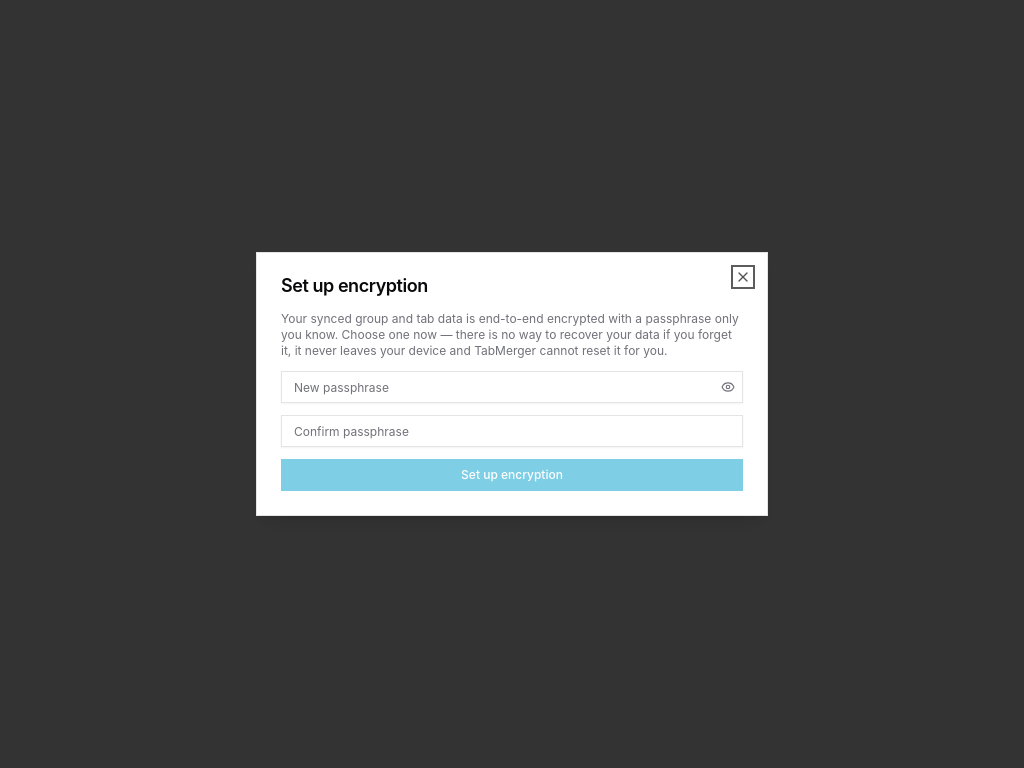
Test: EncryptionSetupModal — self-detects setup vs unlock mode › switches to the unlock form when the server refuses a second key (set up elsewhere meanwhile)
Step 1. Type "passphrase-1" into the password field with placeholder "New passphrase" → coordinates (512, 387), box [281,371,743,403]
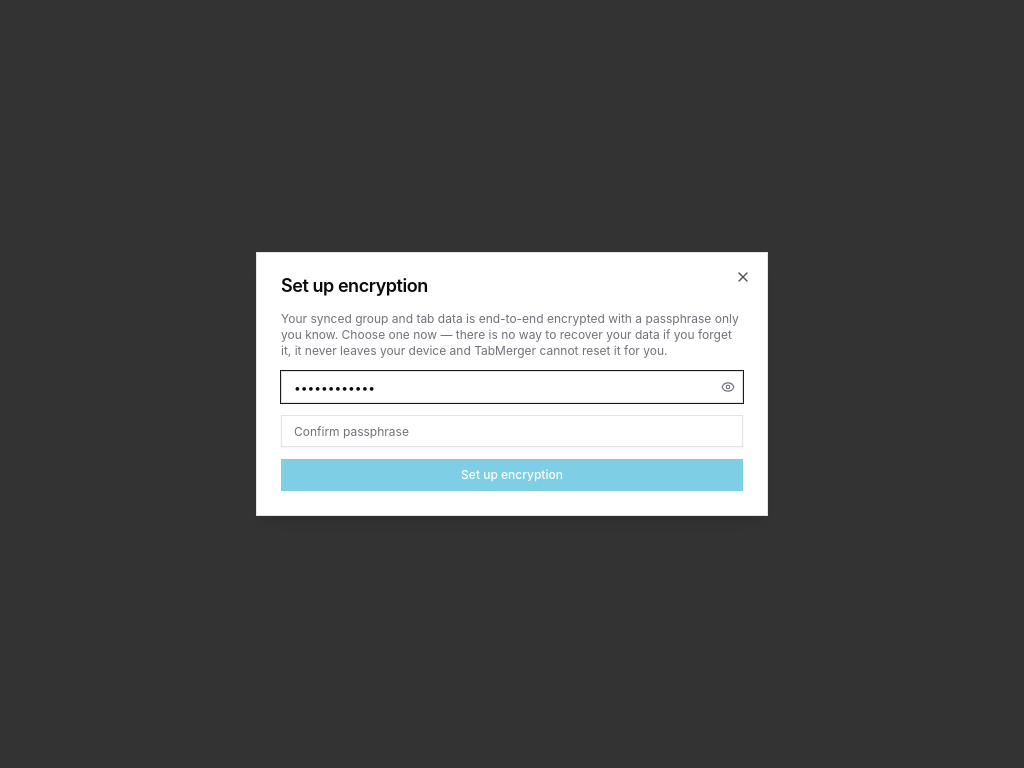
Step 2. Type "passphrase-1" into the password field with placeholder "Confirm passphrase" → coordinates (512, 431), box [281,415,743,447]
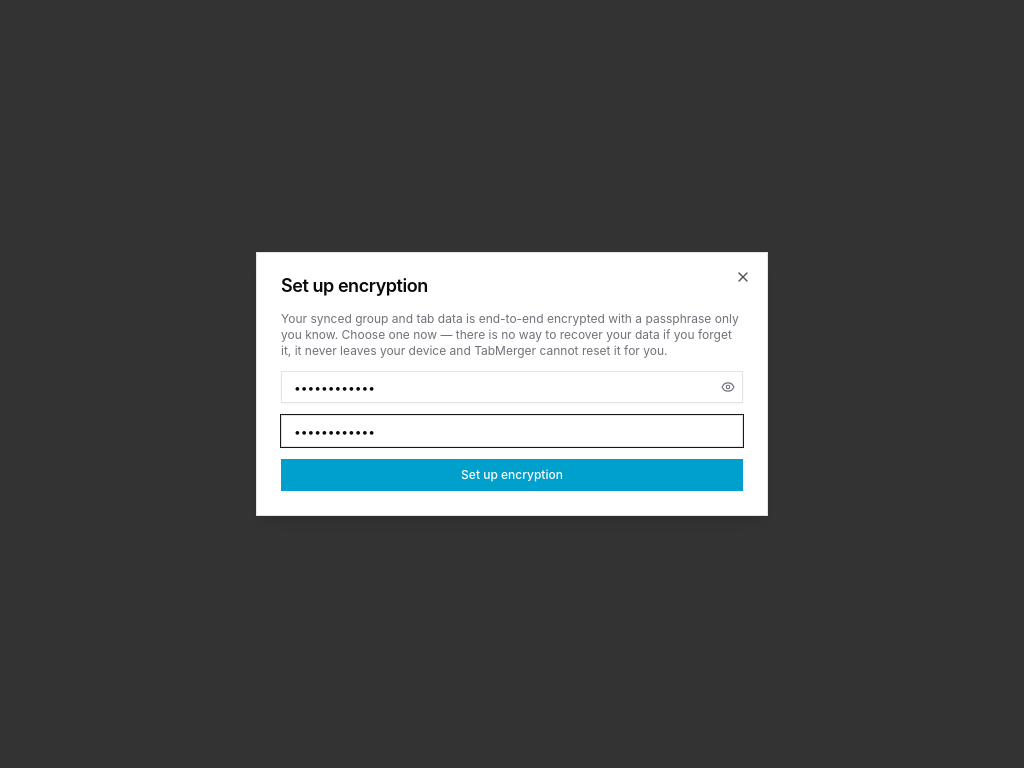
Step 3. Click the button "Set up encryption" → coordinates (512, 475), box [281,459,743,491]
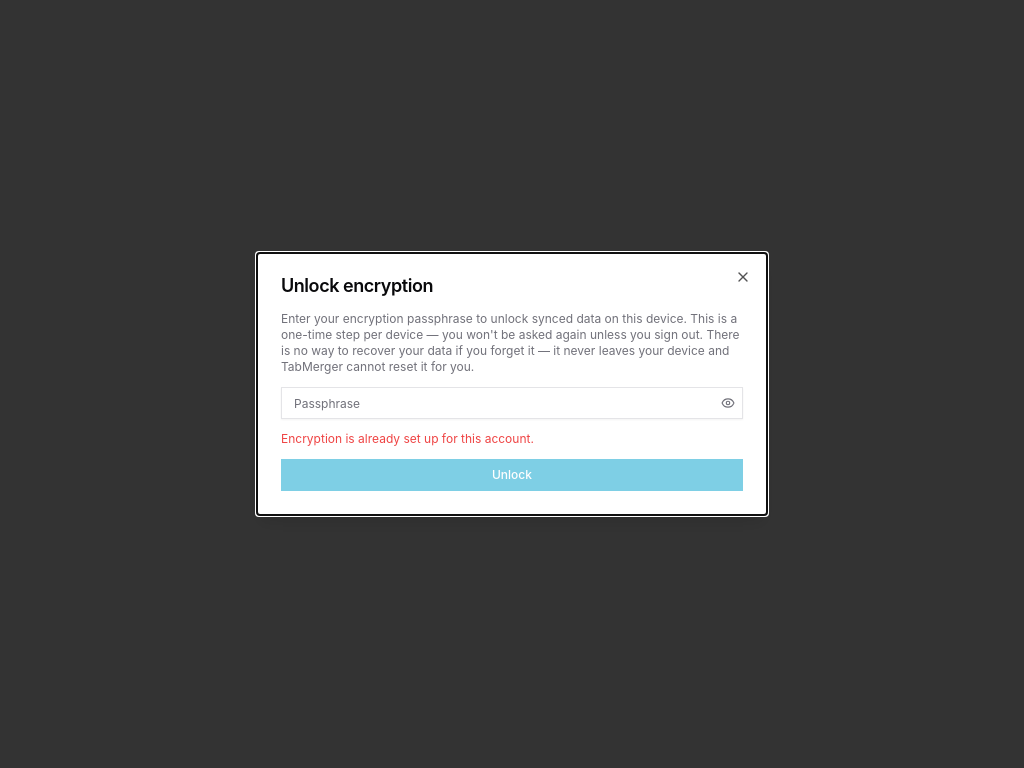
Expected: the heading "Unlock encryption" is shown, [281,275,433,296]
Expected: the text "Encryption is already set up for this account." is shown, [281,431,534,446]
Expected: the password field with placeholder "Passphrase" is empty, [281,387,743,419]
